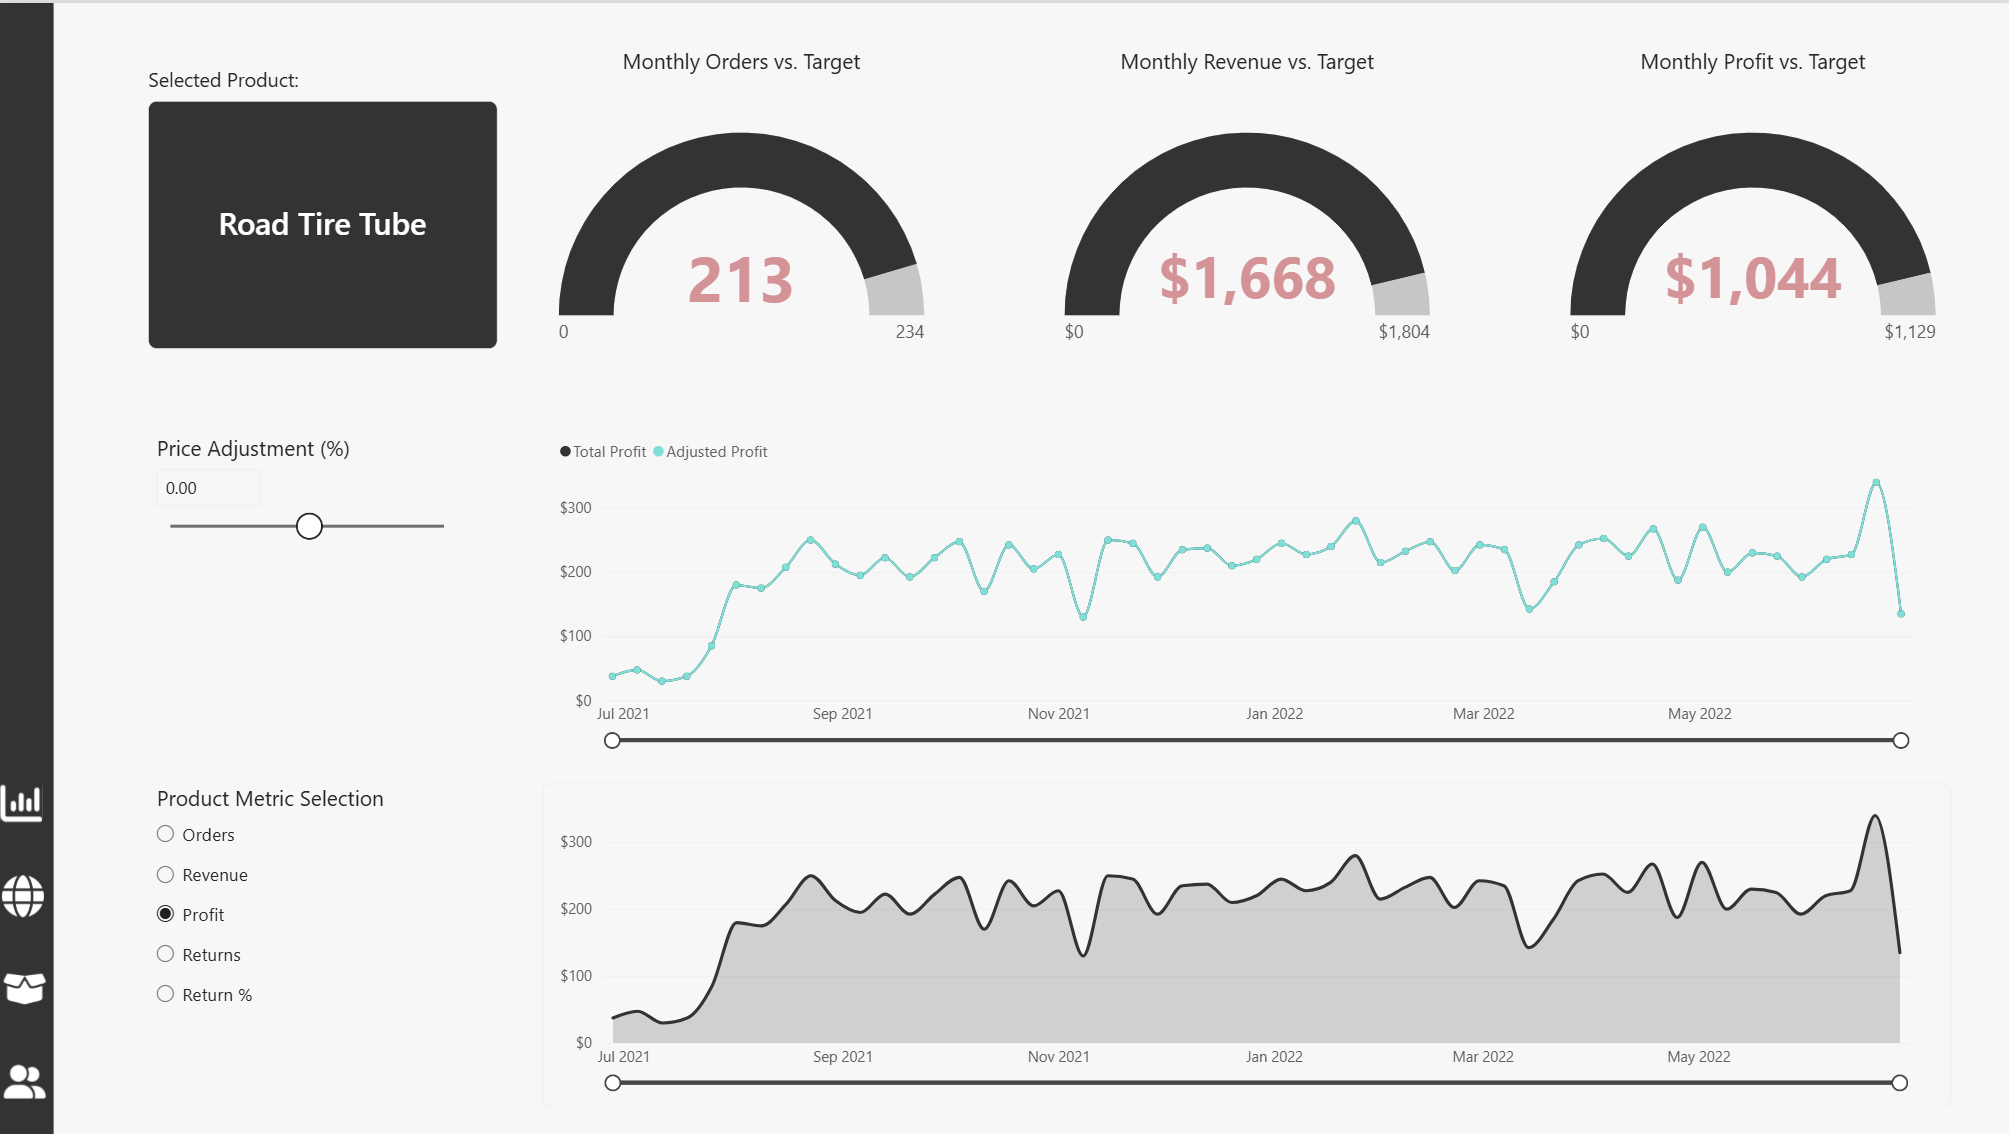

Layout of this report page (visuals, bound fields, positions):
{"tool":"powerbi","page":{"name":"Product Detail","canvas":[1920,1080],"ordinal":2},"visuals":[{"type":"shape","title":"Left Nav Background","box":[0,0,55,1080],"z":0},{"type":"actionButton","box":[0,718.3,73.3,88.3],"z":0,"group":"g1"},{"type":"gauge","title":"Monthly Orders vs. Target","fields":{"MaxValue":["Measure Table.Order Target"],"Y":["Measure Table.Total Orders"]},"box":[520,26.7,380,358.3],"z":1000},{"type":"actionButton","box":[3.3,895,73.3,88.3],"z":1000,"group":"g1"},{"type":"gauge","title":"Monthly Revenue vs. Target","fields":{"MaxValue":["Measure Table.Revenue Target"],"Y":["Measure Table.Total Revenue"]},"box":[1001.7,26.7,380,358.3],"z":2000},{"type":"actionButton","box":[1.7,806.6,73.3,88.3],"z":2000,"group":"g1"},{"type":"gauge","title":"Monthly Profit vs. Target","fields":{"MaxValue":["Measure Table.Profit Target"],"Y":["Measure Table.Total Profit"]},"box":[1483.3,26.7,380,358.3],"z":3000},{"type":"actionButton","box":[3.3,983.3,73.3,88.3],"z":3000,"group":"g1"},{"type":"lineChart","title":"Profit Trending","fields":{"Category":["Calendar Lookup.Date Heirarchy.Start of Year","Calendar Lookup.Date Heirarchy.Start of Month","Calendar Lookup.Date Heirarchy.Start of Week","Calendar Lookup.Date Heirarchy.Date"],"Y":["Measure Table.Total Profit","Measure Table.Adjusted Profit"]},"box":[520.7,396.6,1341.4,327.6],"z":4000},{"type":"areaChart","title":"Return Trending","fields":{"Category":["Calendar Lookup.Date Heirarchy.Start of Year","Calendar Lookup.Date Heirarchy.Start of Month","Calendar Lookup.Date Heirarchy.Start of Week","Calendar Lookup.Date Heirarchy.Date"],"Y":["Measure Table.Total Profit"]},"box":[520,743.3,1341.7,308.3],"z":5000},{"type":"card","fields":{"Values":["Min(Product Lookup.ProductName)"]},"box":[144.8,93.1,332.8,236.2],"z":6000},{"type":"textbox","box":[145,60,300,65],"z":7000},{"type":"group","id":"g1","title":"Navigation Buttons","box":[0,718.3,76.7,353.3],"z":8000},{"type":"slicer","fields":{"Values":["Price Adjustment (%).Price Adjustment (%)"]},"box":[144.8,410.3,300,160.3],"z":9000},{"type":"slicer","fields":{"Values":["Product Metric Selection.Product Metric Selection"]},"box":[144.8,743.1,300,263.8],"z":10000}]}

Visuals, with their boxes on the page's 1920x1080 design canvas (x1, y1, x2, y2). These are canvas units, not pixel positions in the 2009x1134 screenshot, which may show the page scaled, cropped or inside an application window:
"Left Nav Background" shape: x1=0 y1=0 x2=55 y2=1080
actionButton: x1=0 y1=718 x2=73 y2=807
"Monthly Orders vs. Target" gauge: x1=520 y1=27 x2=900 y2=385
actionButton: x1=3 y1=895 x2=77 y2=983
"Monthly Revenue vs. Target" gauge: x1=1002 y1=27 x2=1382 y2=385
actionButton: x1=2 y1=807 x2=75 y2=895
"Monthly Profit vs. Target" gauge: x1=1483 y1=27 x2=1863 y2=385
actionButton: x1=3 y1=983 x2=77 y2=1072
"Profit Trending" lineChart: x1=521 y1=397 x2=1862 y2=724
"Return Trending" areaChart: x1=520 y1=743 x2=1862 y2=1052
card - Min(Product Lookup.ProductName): x1=145 y1=93 x2=478 y2=329
textbox: x1=145 y1=60 x2=445 y2=125
"Navigation Buttons" group: x1=0 y1=718 x2=77 y2=1072
slicer - Price Adjustment (%).Price Adjustment (%): x1=145 y1=410 x2=445 y2=571
slicer - Product Metric Selection.Product Metric Selection: x1=145 y1=743 x2=445 y2=1007
